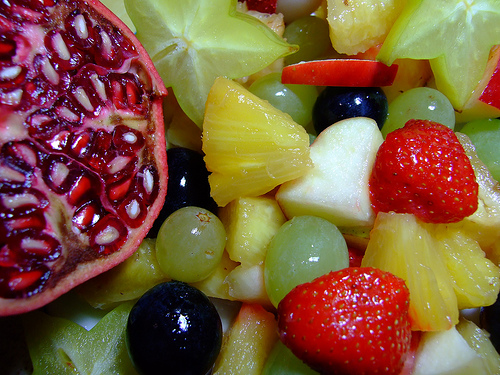pomogranate: (0, 0, 167, 318)
